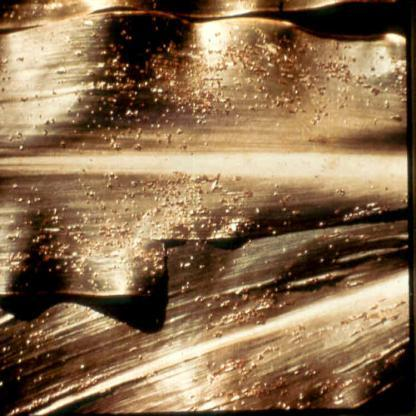Corn rust leaf: (0, 12, 411, 315), (100, 234, 414, 415)
